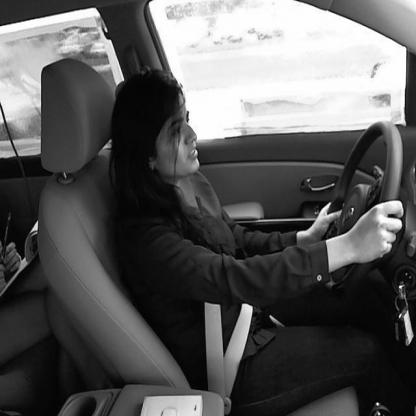seatbelt: (82, 46, 235, 318)
